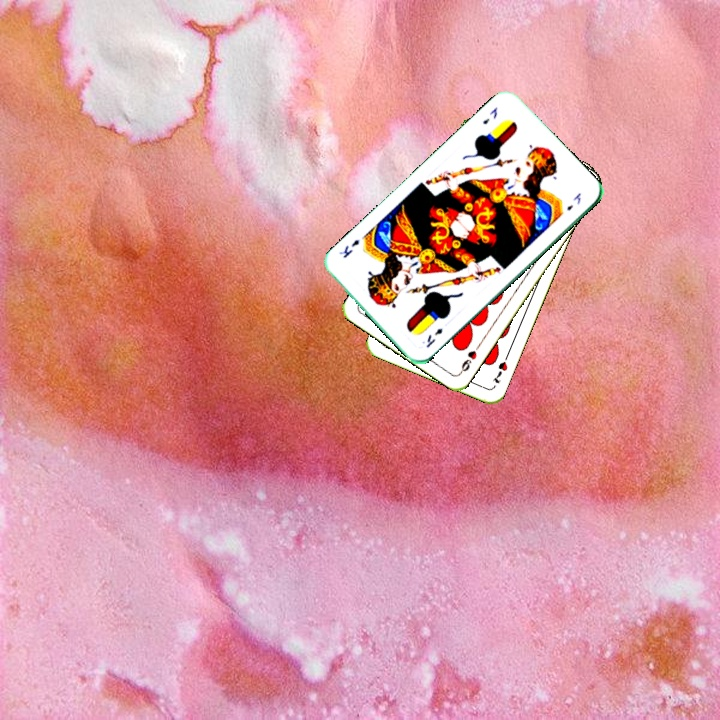EK: (422, 324, 445, 350), (479, 103, 500, 127)
H7: (488, 350, 511, 386)
H9: (456, 340, 483, 376)
